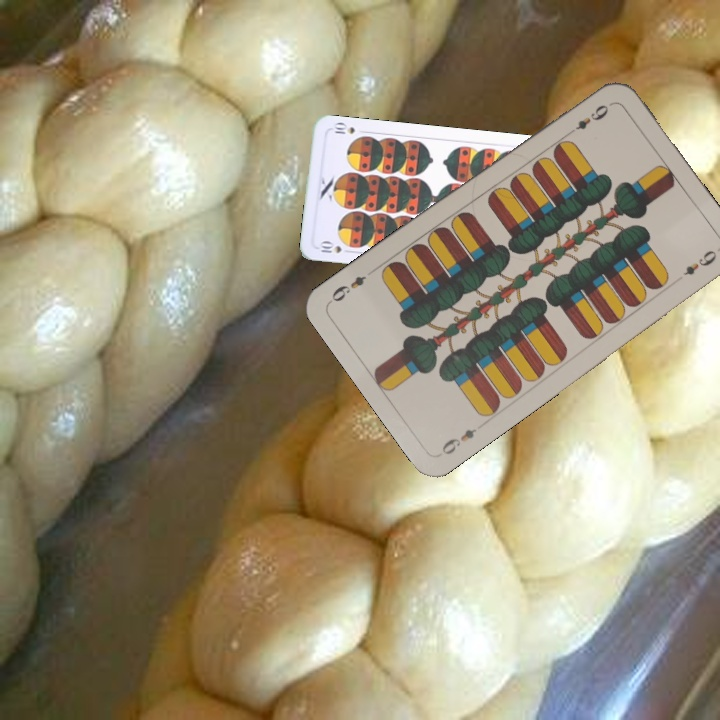E9: (437, 424, 480, 458), (572, 100, 612, 133)
S10: (316, 238, 354, 255)
